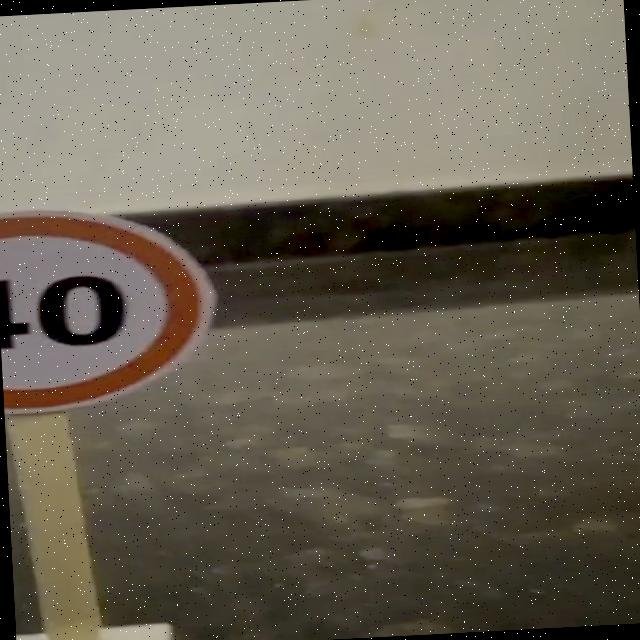Speed40: (0, 192, 226, 425)
